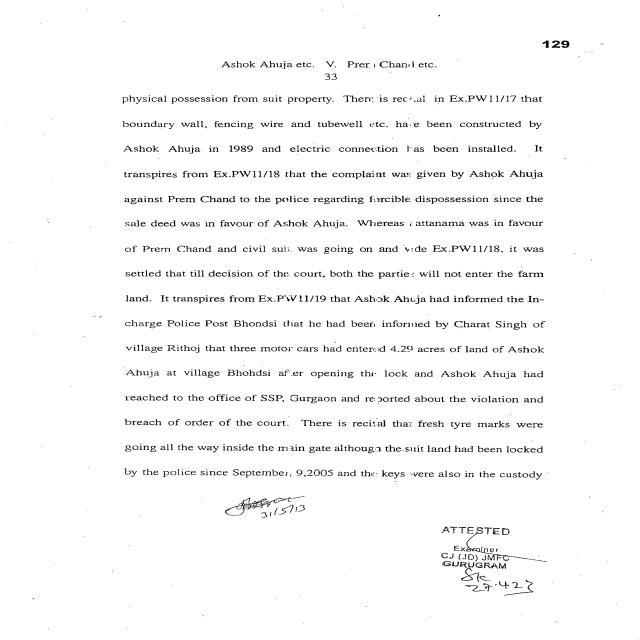page-number: (457, 0, 639, 87)
